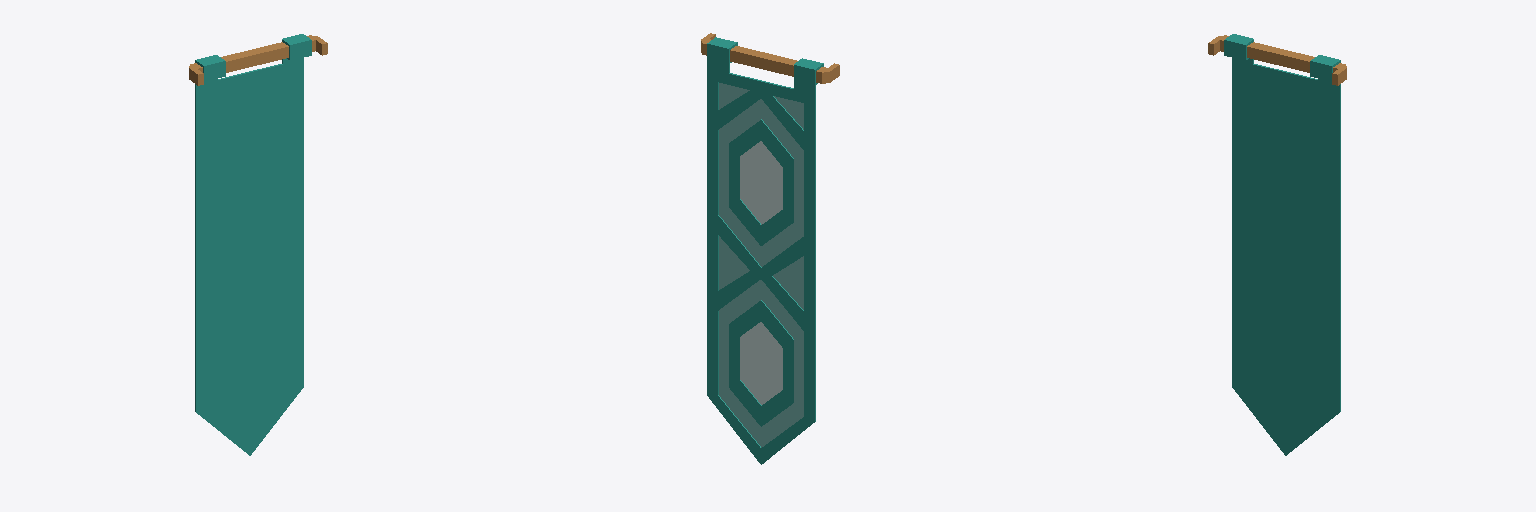
Rendered from Prop_Flag_3.obj.
The picture shows the model from 3 angles: view 1: azimuth 30°, elevation 25°; view 2: azimuth 150°, elevation 25°; view 3: azimuth 330°, elevation 25°; orthographic projection.
Visible parts, largest first — view 1: object2, object1; view 2: object2, object1; view 3: object2, object1.
Boxes of the visible parts, box(x1,y1,x2,y2) form: object2: box(195, 34, 311, 455); object1: box(189, 35, 327, 85); object2: box(707, 37, 823, 464); object1: box(701, 33, 839, 83); object2: box(1224, 34, 1340, 455); object1: box(1208, 35, 1346, 85).
Size of the model in its own units: 0.54 by 1.63 by 0.099.